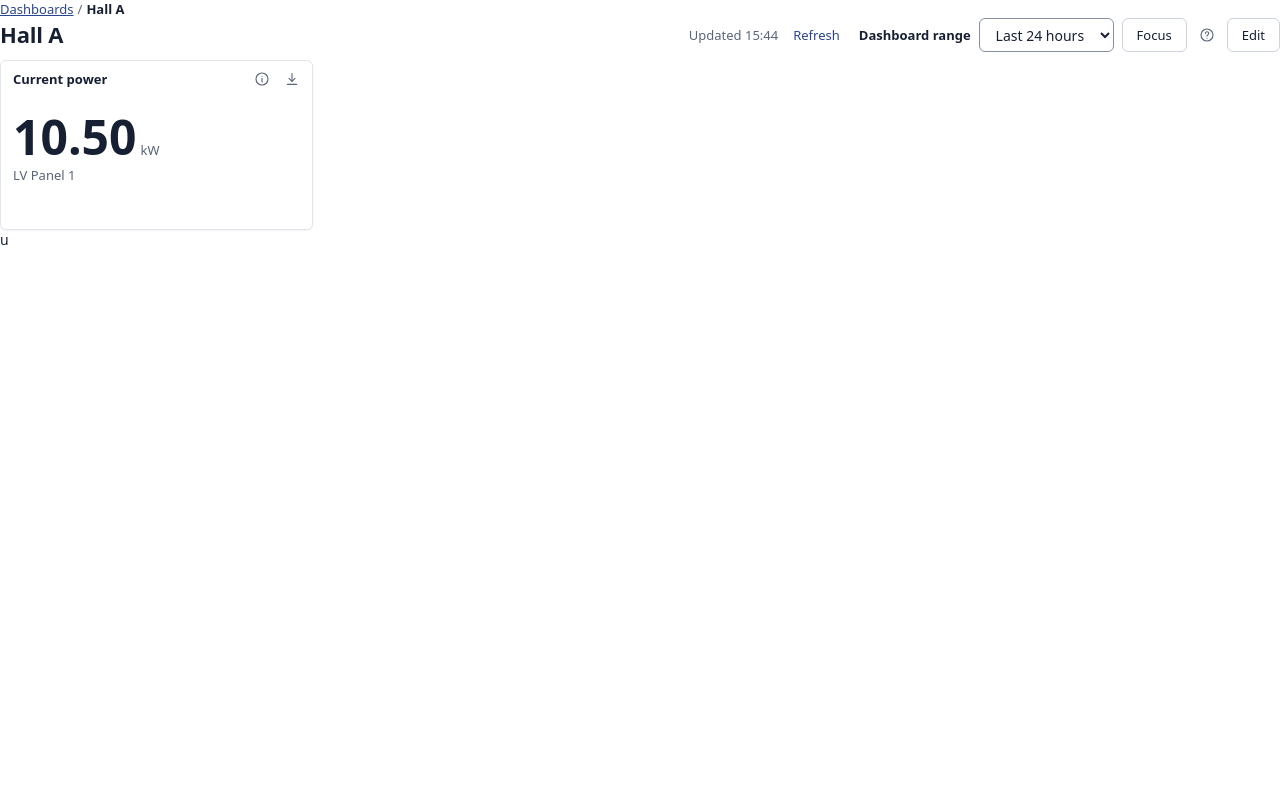
Test case: who can edit › asks before Cancel throws edits away: Keep editing stays with them, Leave discards them and saves nothing
Click the button "Edit": [1253, 35] box [1227,18,1279,52]
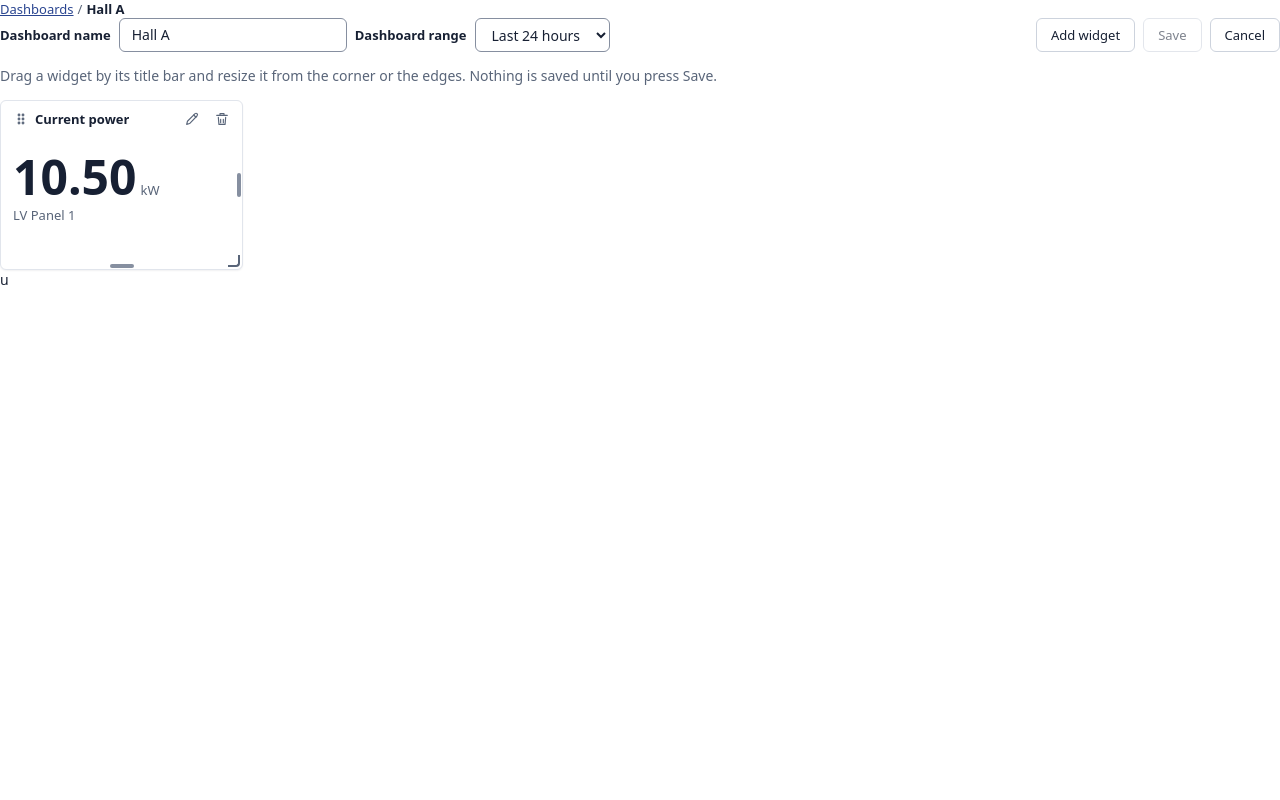
Expected: the field labelled "Dashboard name" is shown
Expected: the button "Add widget" is enabled, [1036,18,1135,52]
In the field labelled "Dashboard name": [233, 35] box [119,18,347,52], type " renamed"
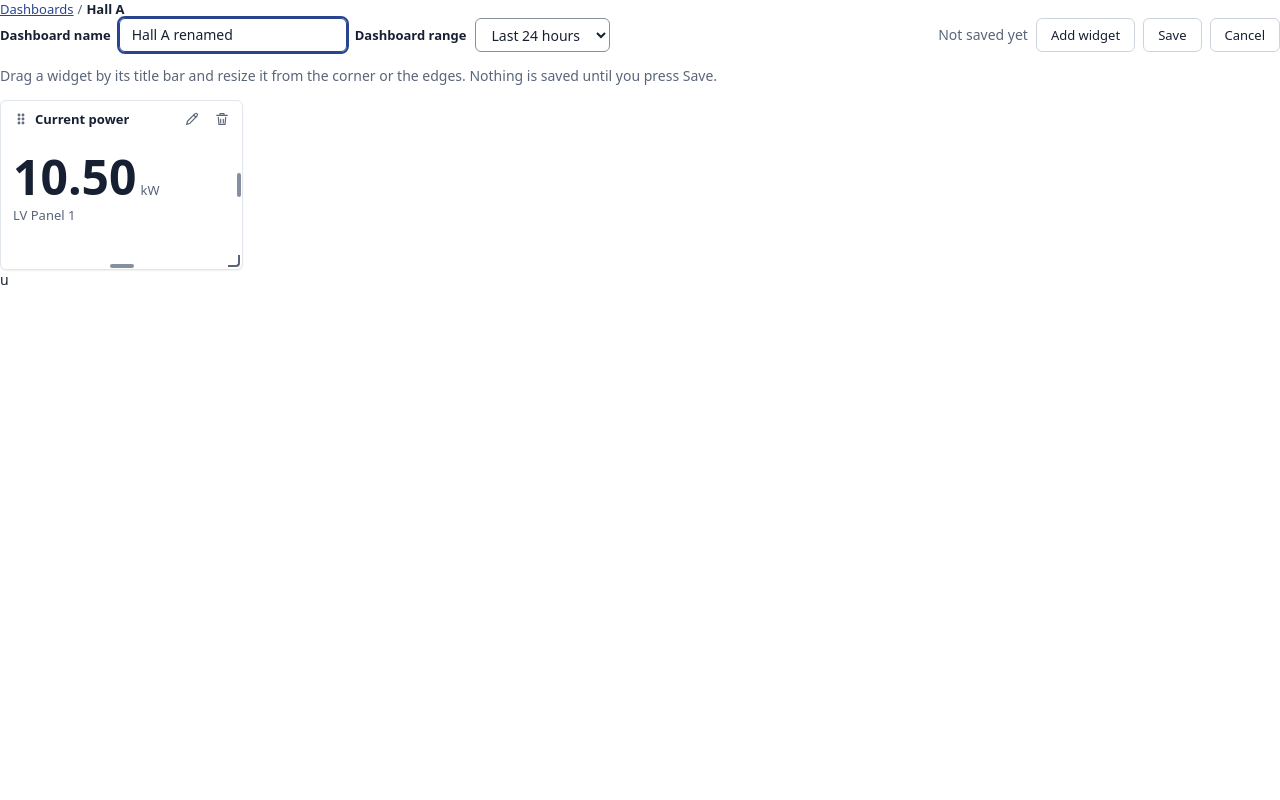
Click the button "Cancel": [1245, 35] box [1210,18,1279,52]
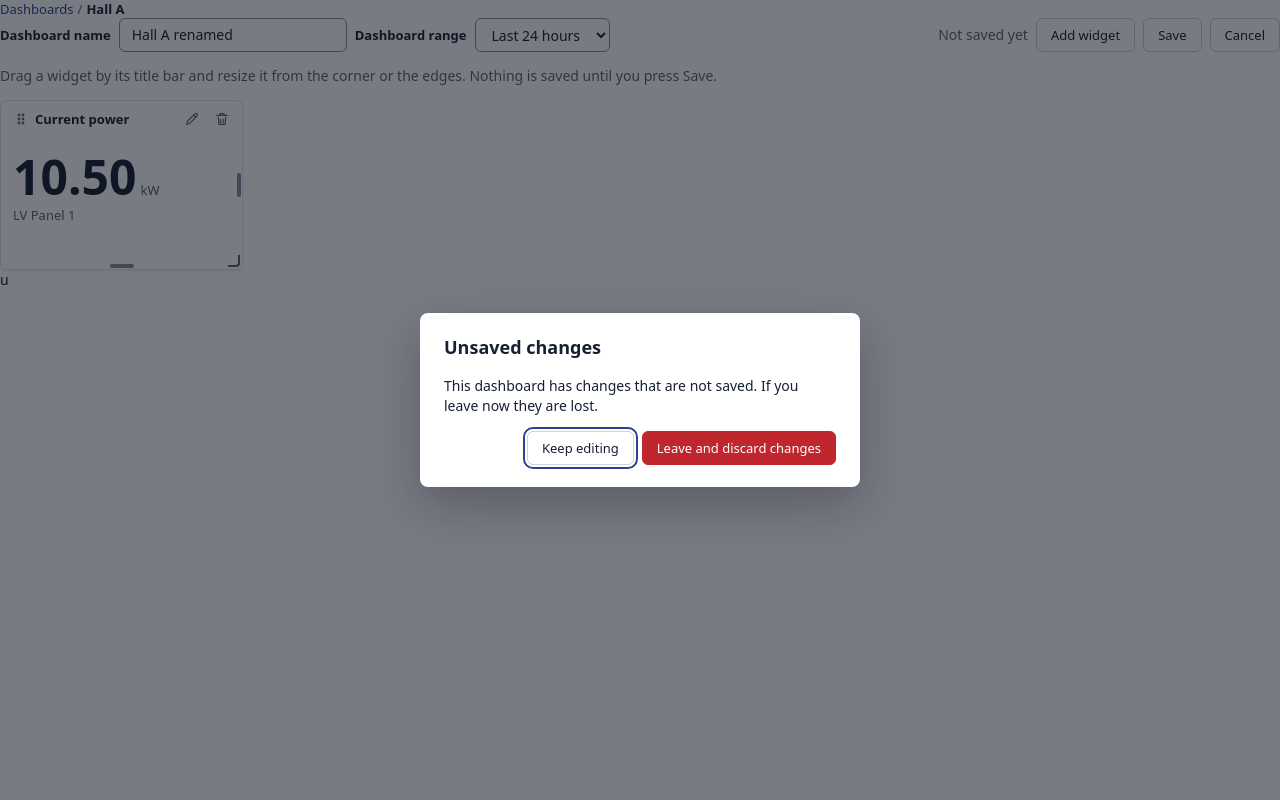
Click the button "Keep editing": [580, 448] box [527,431,634,465]
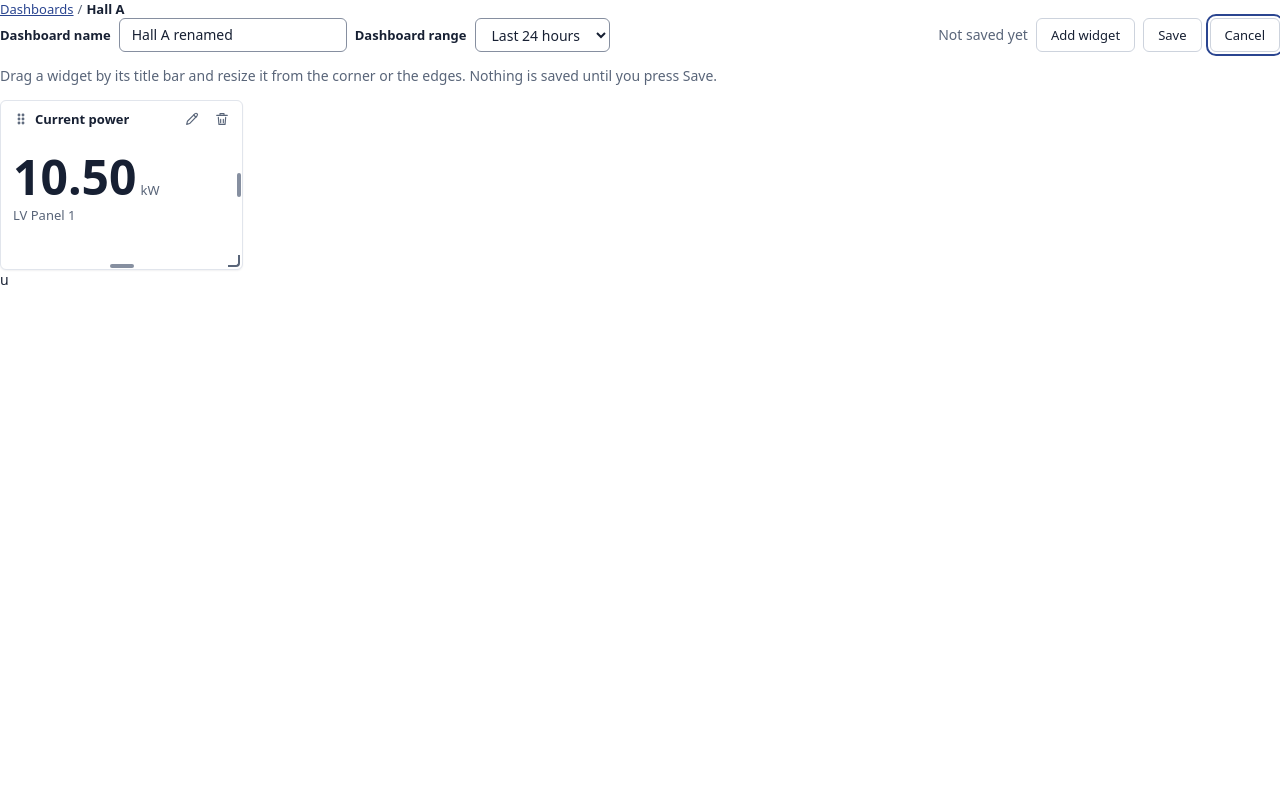
Expected: the field labelled "Dashboard name" holds "Hall A renamed", [119,18,347,52]
Expected: the dialog is gone
Click the button "Cancel": [1245, 35] box [1210,18,1279,52]
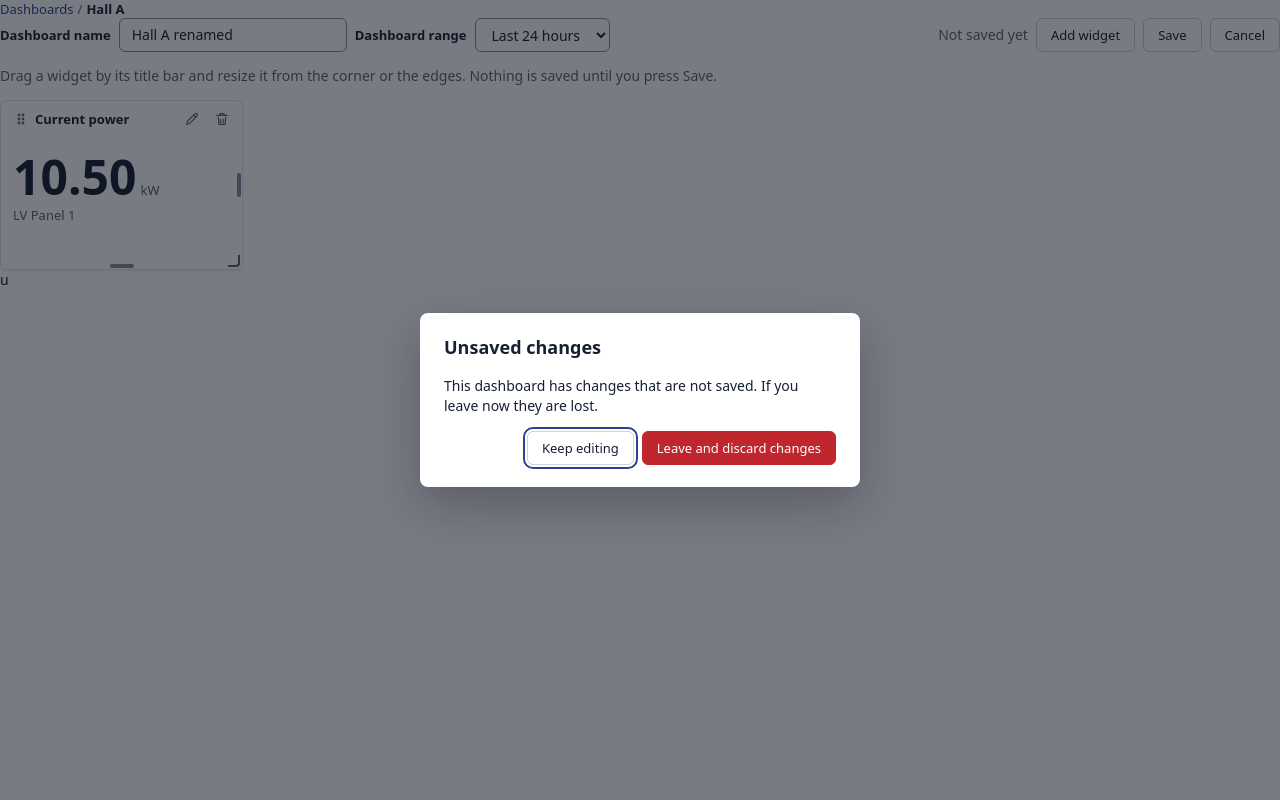
Click the button "Leave and discard changes": [739, 448] box [642,431,836,465]
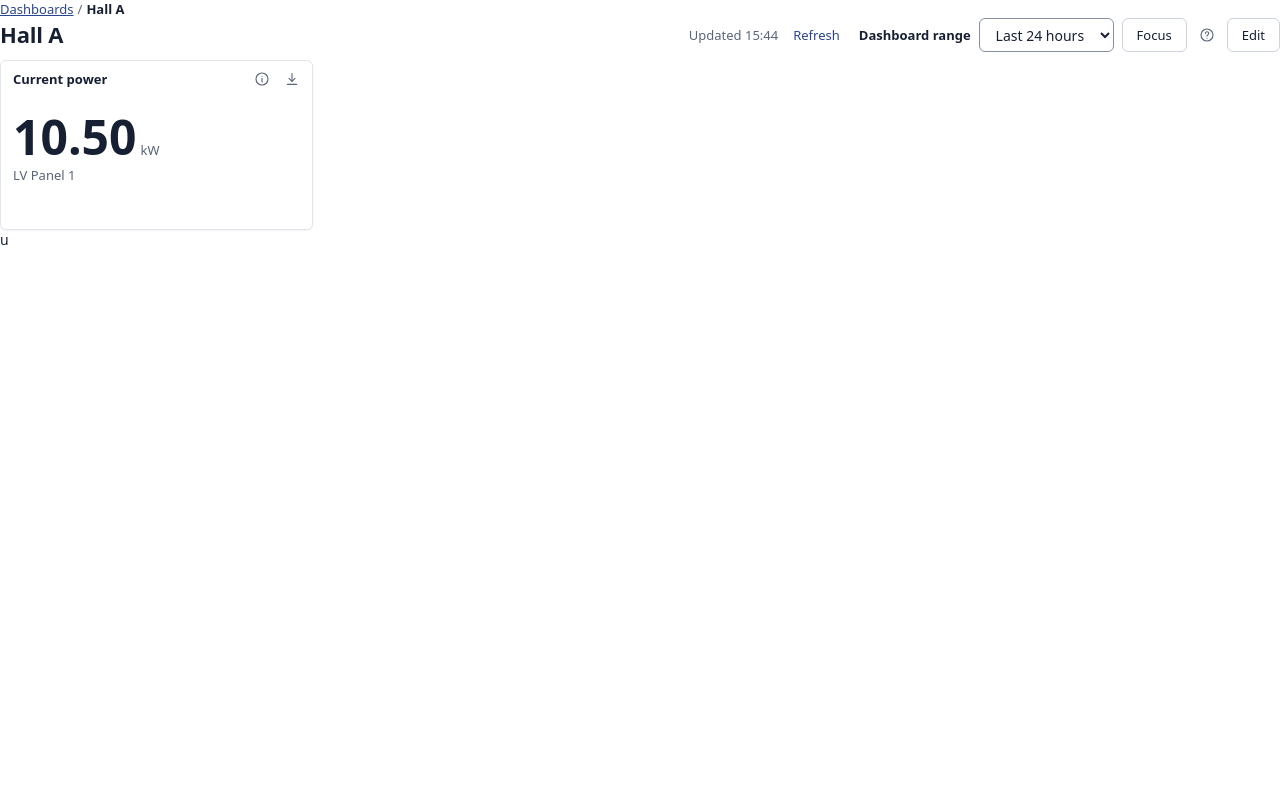
Expected: the button "Edit" is shown, [1227,18,1279,52]
Expected: the heading "Hall A" is shown, [0,21,63,49]
